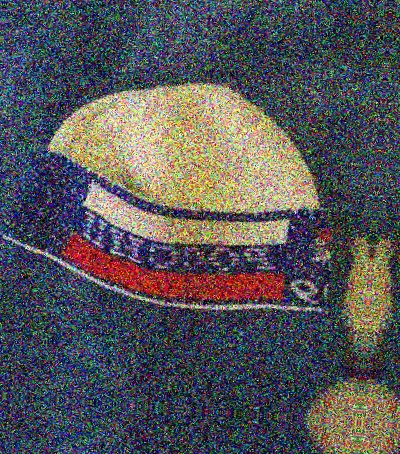Hat: (0, 58, 340, 324)
